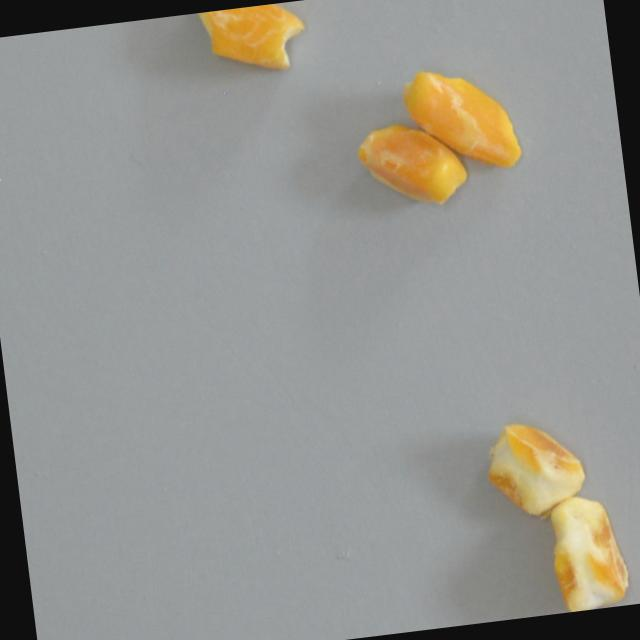pelicula: (399, 57, 524, 180), (478, 415, 591, 521), (537, 490, 633, 614), (352, 115, 472, 214), (178, 0, 310, 84)
